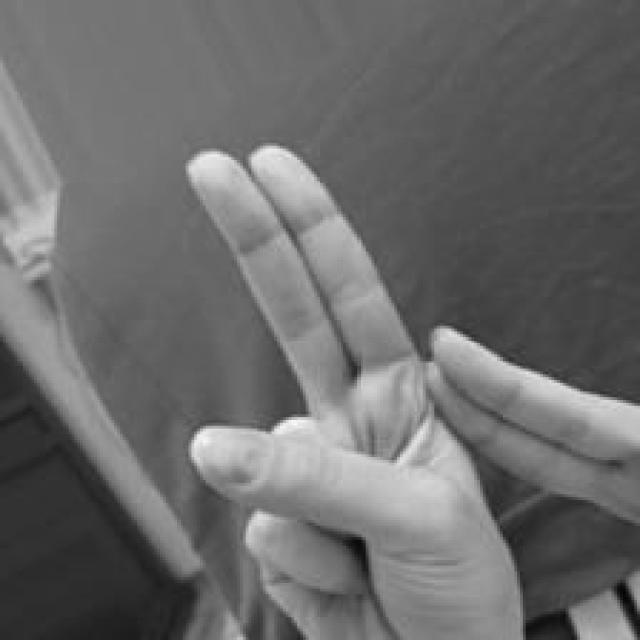K: (172, 135, 640, 640)
